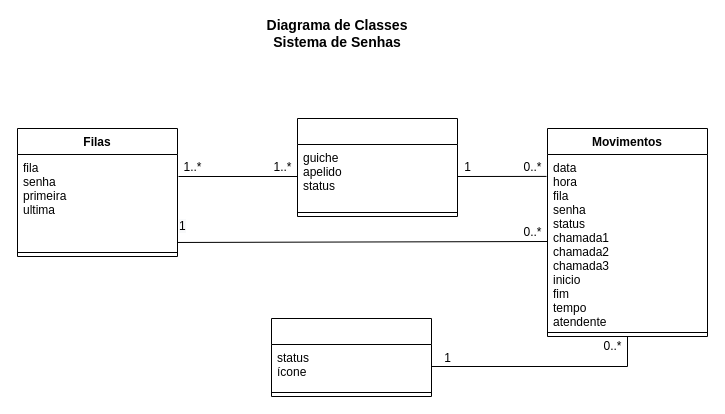
This 725x414 diagram has some shape labels left out. Here are the shapes that lost their labels. From the top down, the box of each, then its label:
(296, 118, 458, 216): Atendentes
(270, 318, 432, 396): Icones
